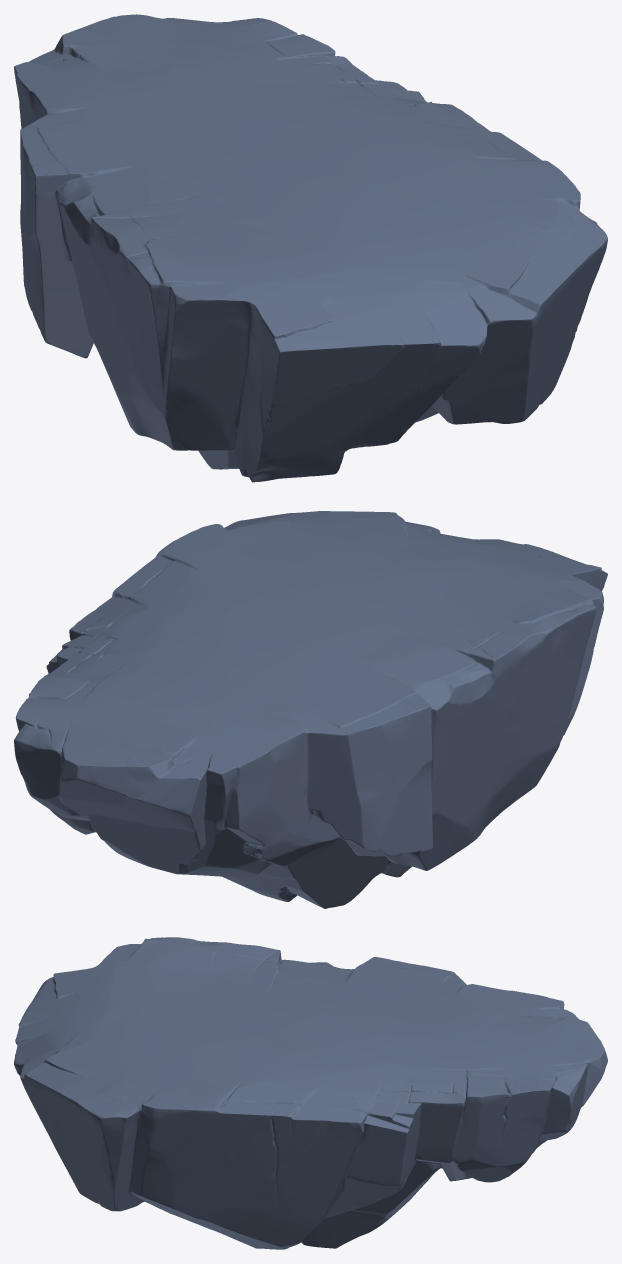
3 views of the same model, one above another, from view 1: azimuth 30°, elevation 25°; view 2: azimuth 150°, elevation 25°; view 3: azimuth 270°, elevation 25° (orthographic). The views are drawn at different scales.
Parts seen in each view (by area): view 1: SM_GF_Cliff_Overhang_01_LOD0; view 2: SM_GF_Cliff_Overhang_01_LOD0; view 3: SM_GF_Cliff_Overhang_01_LOD0.
Boxes of the visible parts, left/top/right/bottom form: SM_GF_Cliff_Overhang_01_LOD0: left=14, top=14, right=607, bottom=482; SM_GF_Cliff_Overhang_01_LOD0: left=14, top=511, right=607, bottom=908; SM_GF_Cliff_Overhang_01_LOD0: left=14, top=937, right=607, bottom=1249.
Bounding box in the file's own units: 35.51 × 22.27 × 55.05.
